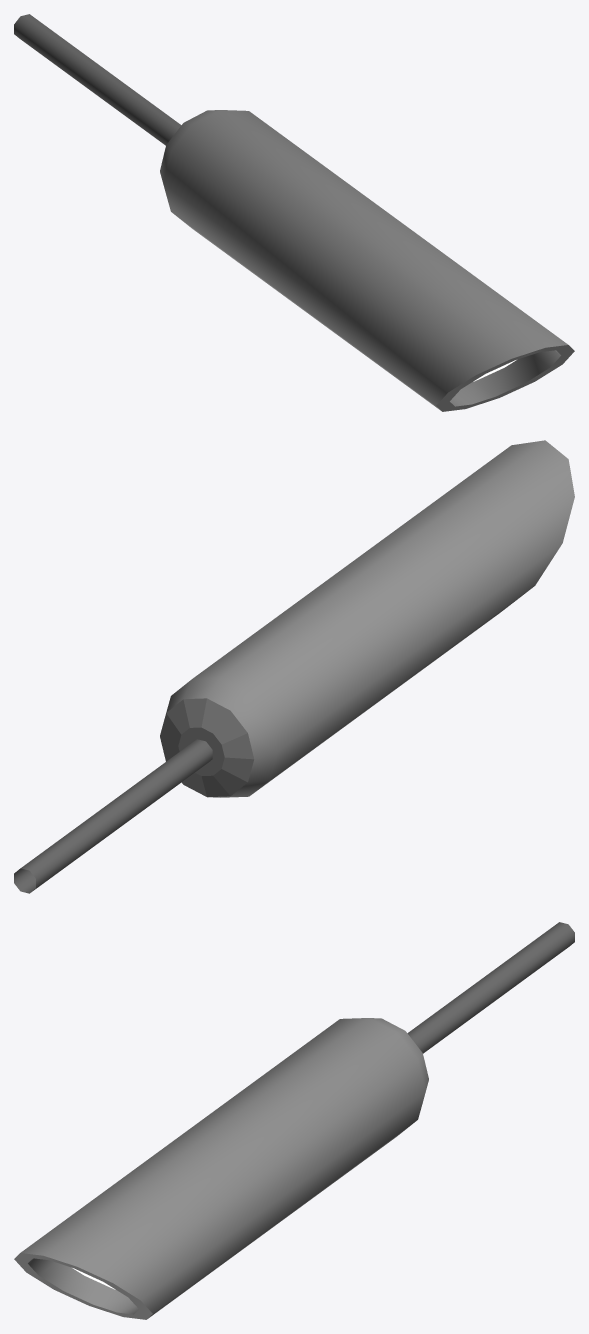
Rendered from Ceiling_Lamp_1_A.glb.
The picture shows the model from 3 angles, top to bottom: view 1: azimuth 30°, elevation 25°; view 2: azimuth 150°, elevation 25°; view 3: azimuth 330°, elevation 25°; orthographic projection.
Visible parts, largest first — view 1: Ceiling Lamp 1 A; view 2: Ceiling Lamp 1 A; view 3: Ceiling Lamp 1 A.
Part boxes in pixels (x1=…): Ceiling Lamp 1 A: x1=14, y1=14, x2=574, y2=411; Ceiling Lamp 1 A: x1=14, y1=440, x2=574, y2=893; Ceiling Lamp 1 A: x1=14, y1=922, x2=574, y2=1319.
Size of the model in its own units: 0.04 by 0.04 by 0.3153.
2 materials, 1 textured.
